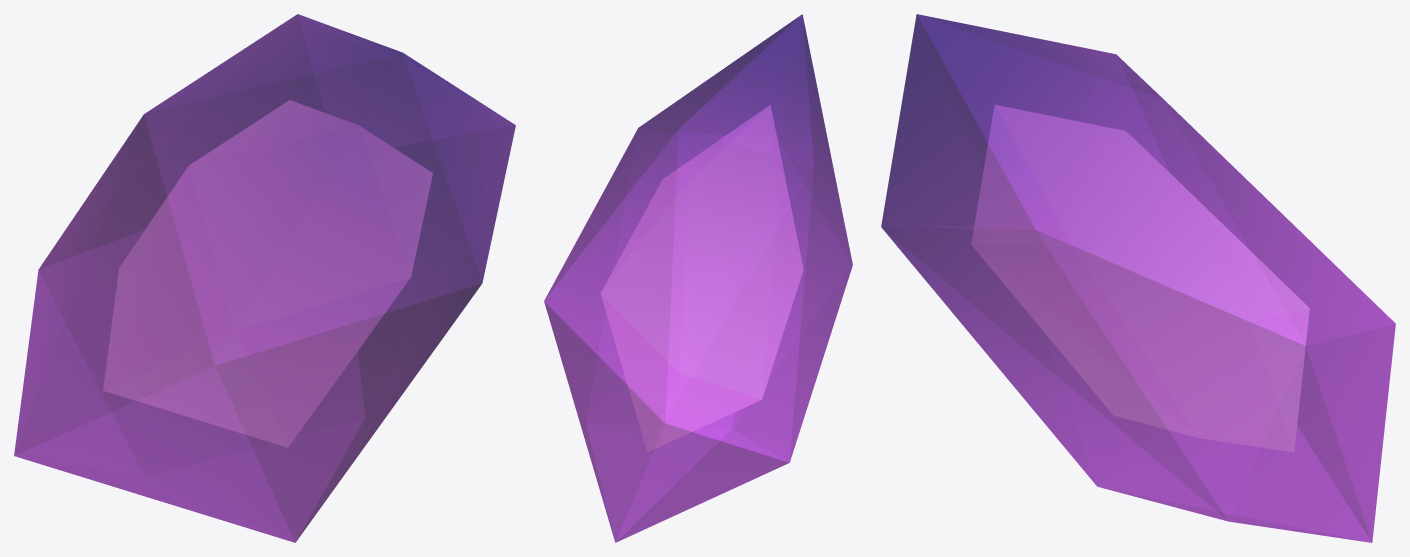
Rendered from SM_Crystal.glb.
3 views of the same model, side by side, from view 1: azimuth 30°, elevation 25°; view 2: azimuth 150°, elevation 25°; view 3: azimuth 270°, elevation 25° (orthographic). The views are drawn at different scales.
Visible parts, largest first — view 1: Icosphere, Icosphere.001; view 2: Icosphere, Icosphere.001; view 3: Icosphere, Icosphere.001.
Part boxes in pixels (x1,y1,x2,y2): Icosphere: (14, 14, 515, 542); Icosphere.001: (103, 100, 432, 447); Icosphere: (544, 14, 852, 542); Icosphere.001: (600, 105, 803, 451); Icosphere: (881, 14, 1395, 542); Icosphere.001: (971, 104, 1309, 452).
Bounding box in the file's own units: 1.92 × 3.13 × 2.8.
2 materials, 2 textured.
